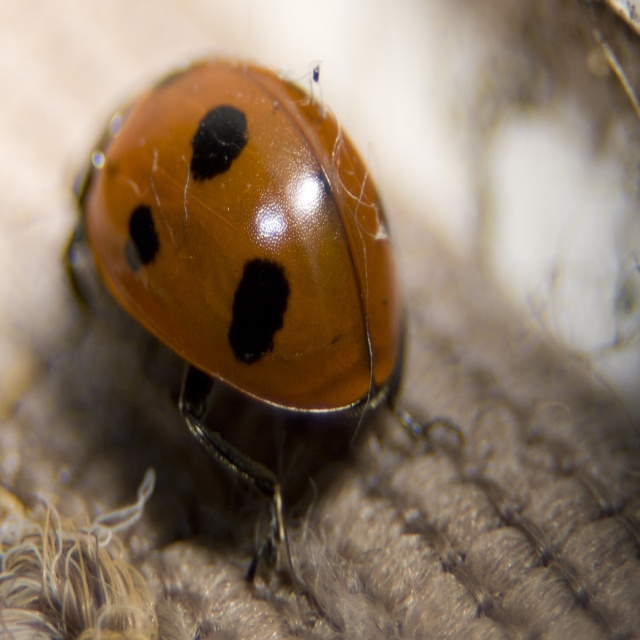Ladybug: (61, 55, 464, 626)
